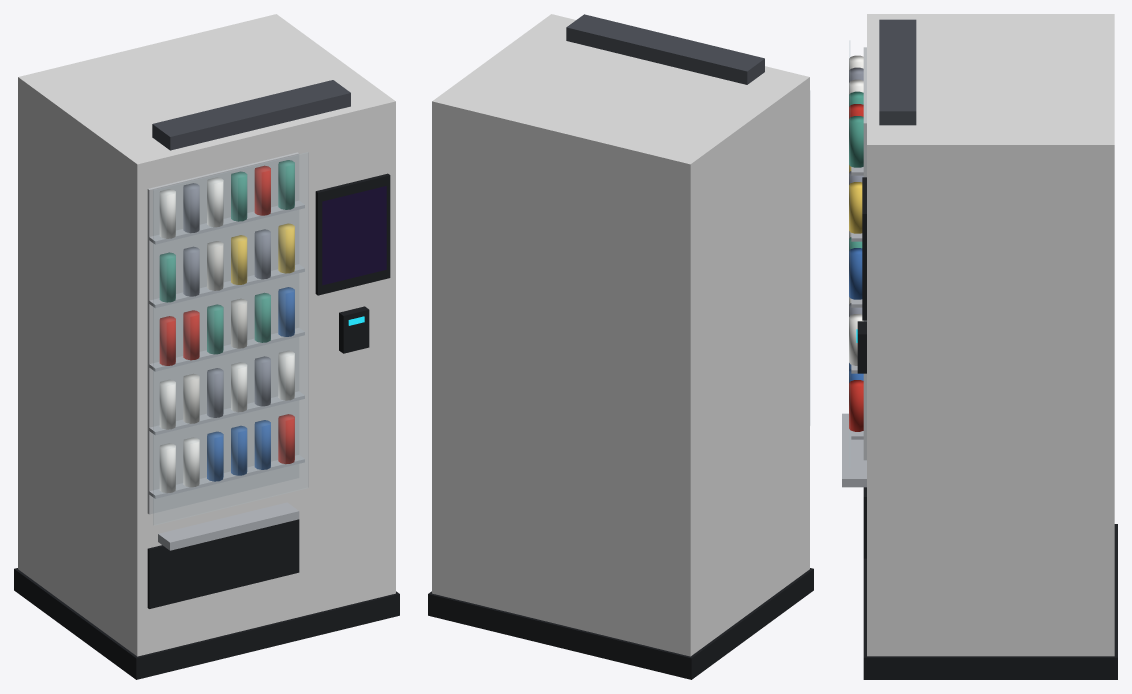
File: Tech_Vending_Drinks.gltf
3 views of the same model, side by side, from view 1: azimuth 30°, elevation 25°; view 2: azimuth 150°, elevation 25°; view 3: azimuth 270°, elevation 25° (orthographic). The views are drawn at different scales.
Visible parts, largest first — view 1: Tech_Vending_Drinks_COL, Tech_Vending_Drinks; view 2: Tech_Vending_Drinks_COL, Tech_Vending_Drinks; view 3: Tech_Vending_Drinks_COL, Tech_Vending_Drinks.
Part boxes in pixels (bbox=[...]): Tech_Vending_Drinks_COL: bbox=[18, 14, 395, 656]; Tech_Vending_Drinks: bbox=[14, 80, 399, 679]; Tech_Vending_Drinks_COL: bbox=[432, 14, 809, 656]; Tech_Vending_Drinks: bbox=[428, 14, 813, 679]; Tech_Vending_Drinks_COL: bbox=[867, 14, 1114, 656]; Tech_Vending_Drinks: bbox=[842, 19, 1117, 679].
Size of the model in its own units: 1.02 by 1.95 by 0.89.
